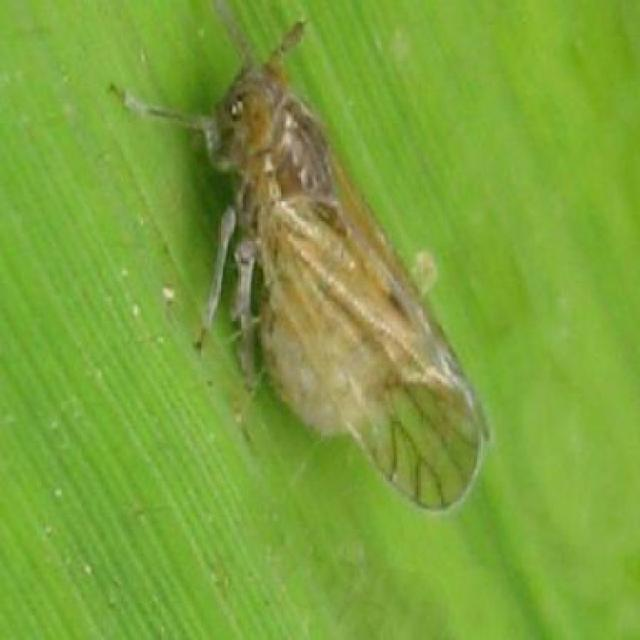brown-planthopper: (204, 44, 476, 507)
